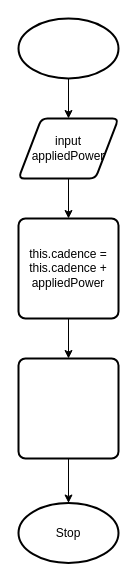
Image size: 136x581. Some labels were removed from this diagram. The shapes that lost their labels are listed below. From the top down, each one's centre as x and y in pixels, then its label:
At pixel 68 48: "Start".
At pixel 68 408: "super.setSpeed( this.cadence * 2)".
